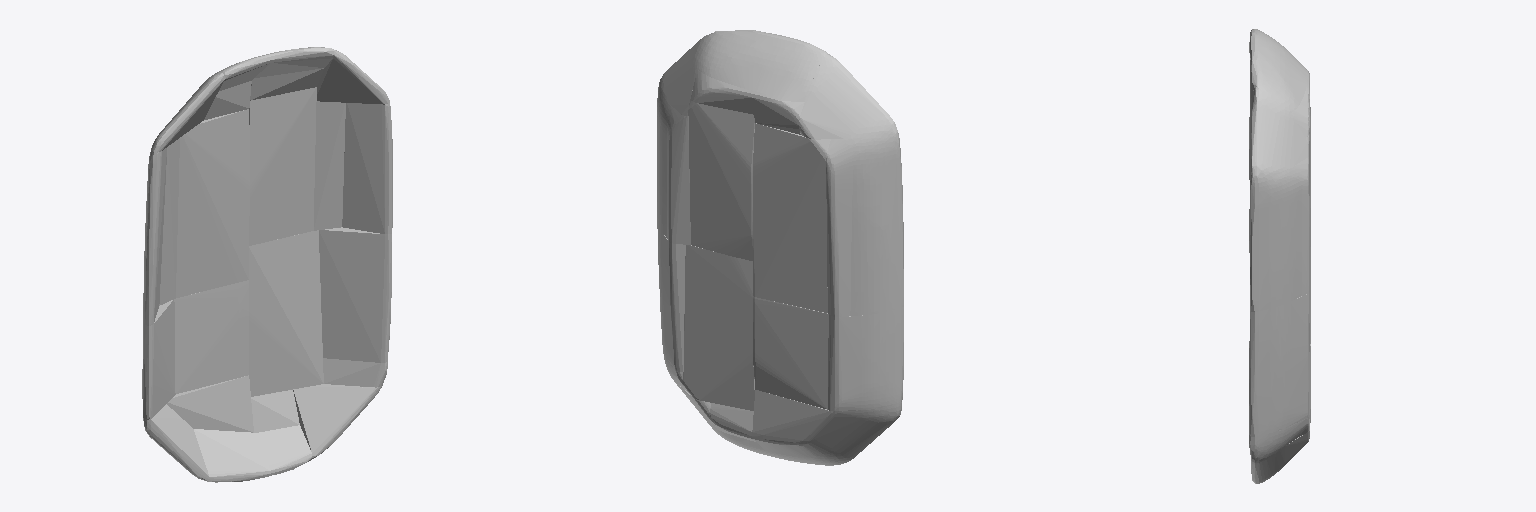
Rendered from coacd_collision.obj.
The picture shows the model from 3 angles: view 1: azimuth 30°, elevation 25°; view 2: azimuth 150°, elevation 25°; view 3: azimuth 270°, elevation 25°; orthographic projection.
Visible parts, largest first — view 1: geometry_8, geometry_5, geometry_7, geometry_19, geometry_1, geometry_16, geometry_14, geometry_4, geometry_0, geometry_2, geometry_17, geometry_20 (+11 smaller); view 2: geometry_8, geometry_5, geometry_7, geometry_20, geometry_2, geometry_1, geometry_0, geometry_3, geometry_13, geometry_15, geometry_11, geometry_19 (+7 smaller); view 3: geometry_19, geometry_16, geometry_6, geometry_15, geometry_4, geometry_14, geometry_9, geometry_11, geometry_12.
Boxes of the visible parts, <box> form: geometry_8: <box>176,109,249,297</box>; geometry_5: <box>249,230,323,396</box>; geometry_7: <box>249,87,316,245</box>; geometry_19: <box>319,227,391,362</box>; geometry_1: <box>174,280,248,393</box>; geometry_16: <box>342,103,392,233</box>; geometry_14: <box>314,101,345,230</box>; geometry_4: <box>293,384,381,458</box>; geometry_0: <box>167,375,253,432</box>; geometry_2: <box>142,300,175,419</box>; geometry_17: <box>194,429,270,482</box>; geometry_20: <box>143,145,166,325</box>; geometry_8: <box>753,123,830,312</box>; geometry_5: <box>683,245,754,410</box>; geometry_7: <box>688,99,754,260</box>; geometry_20: <box>850,133,903,315</box>; geometry_2: <box>828,307,903,411</box>; geometry_1: <box>753,296,828,409</box>; geometry_0: <box>752,390,872,458</box>; geometry_3: <box>799,54,897,139</box>; geometry_13: <box>826,139,857,316</box>; geometry_15: <box>698,30,781,90</box>; geometry_11: <box>753,36,827,101</box>; geometry_19: <box>657,222,685,371</box>; geometry_19: <box>1249,292,1309,436</box>; geometry_16: <box>1249,166,1301,311</box>; geometry_6: <box>1251,88,1308,180</box>; geometry_15: <box>1250,46,1306,112</box>; geometry_4: <box>1251,431,1309,483</box>; geometry_14: <box>1295,157,1309,295</box>; geometry_9: <box>1249,417,1308,457</box>; geometry_11: <box>1250,29,1308,82</box>; geometry_12: <box>1290,82,1309,137</box>.
Size of the model in its own units: 164 by 268 by 35.96.